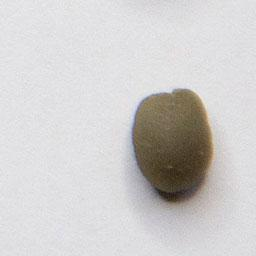peaberry: (129, 86, 215, 196)
